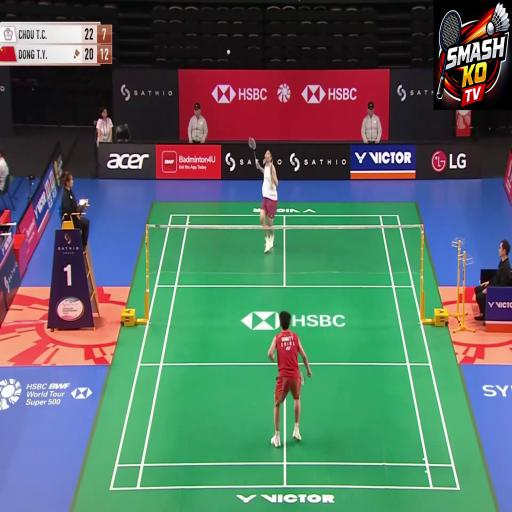player: (269, 300, 314, 464), (243, 132, 289, 280)
